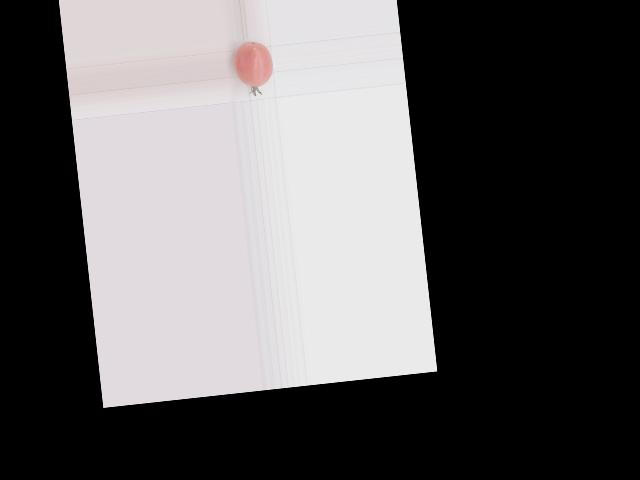tomato: (232, 39, 275, 88)
